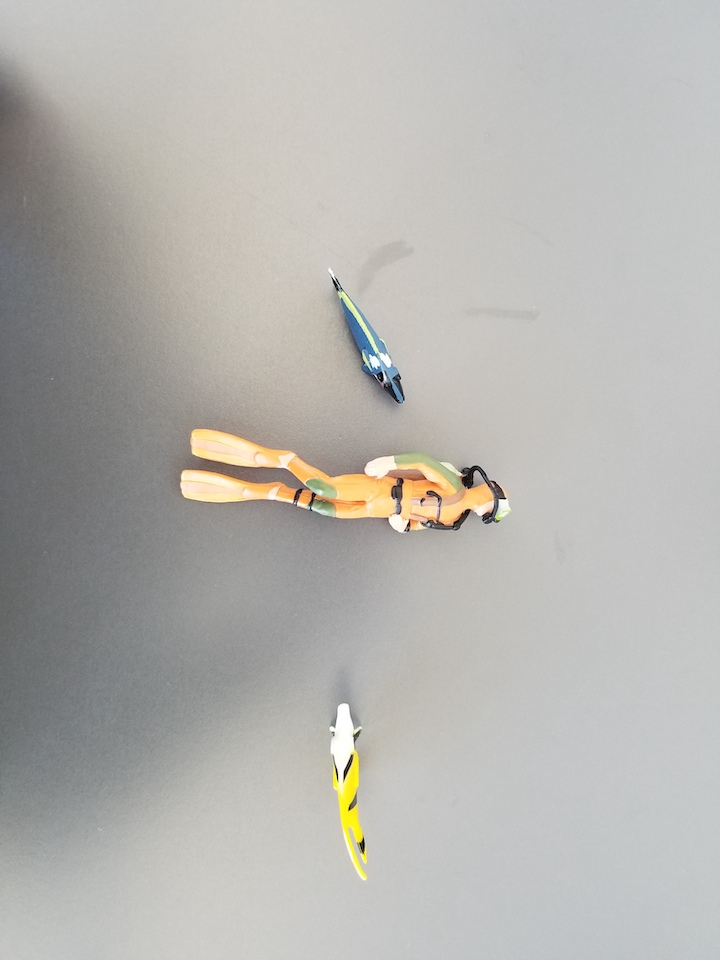danger: (326, 701, 375, 881)
diver: (179, 424, 514, 536)
fish: (326, 268, 407, 402)
